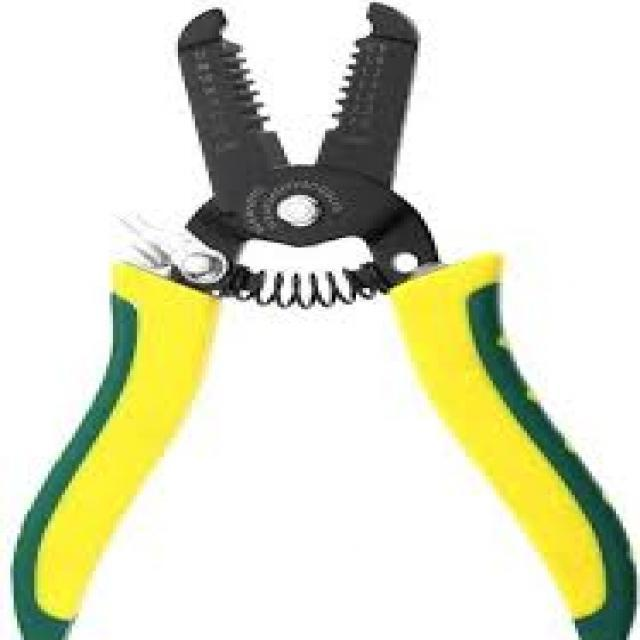pliers: (11, 1, 541, 620)
